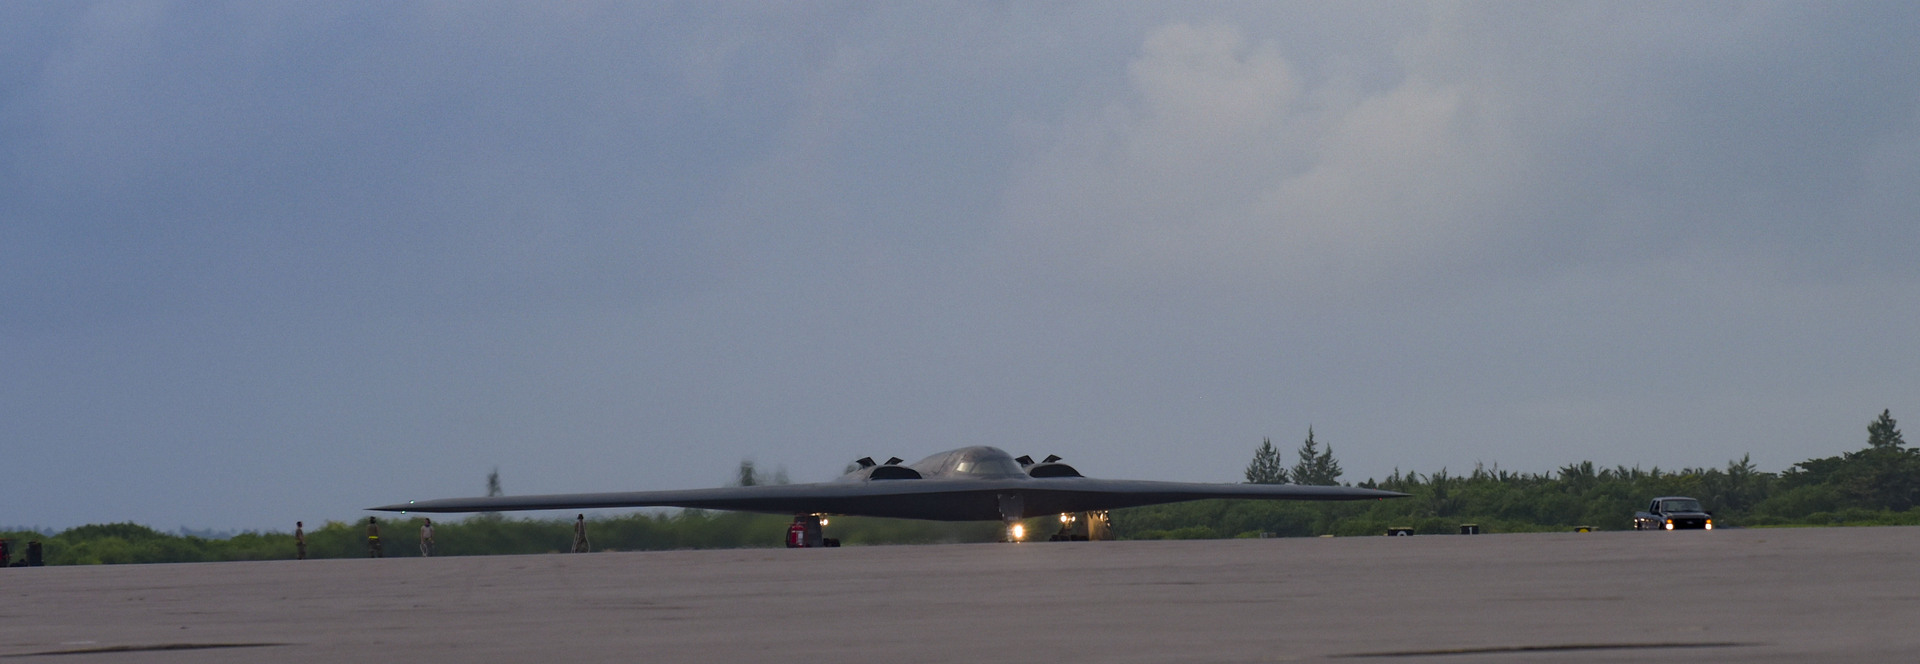B2: (361, 443, 1416, 546)
